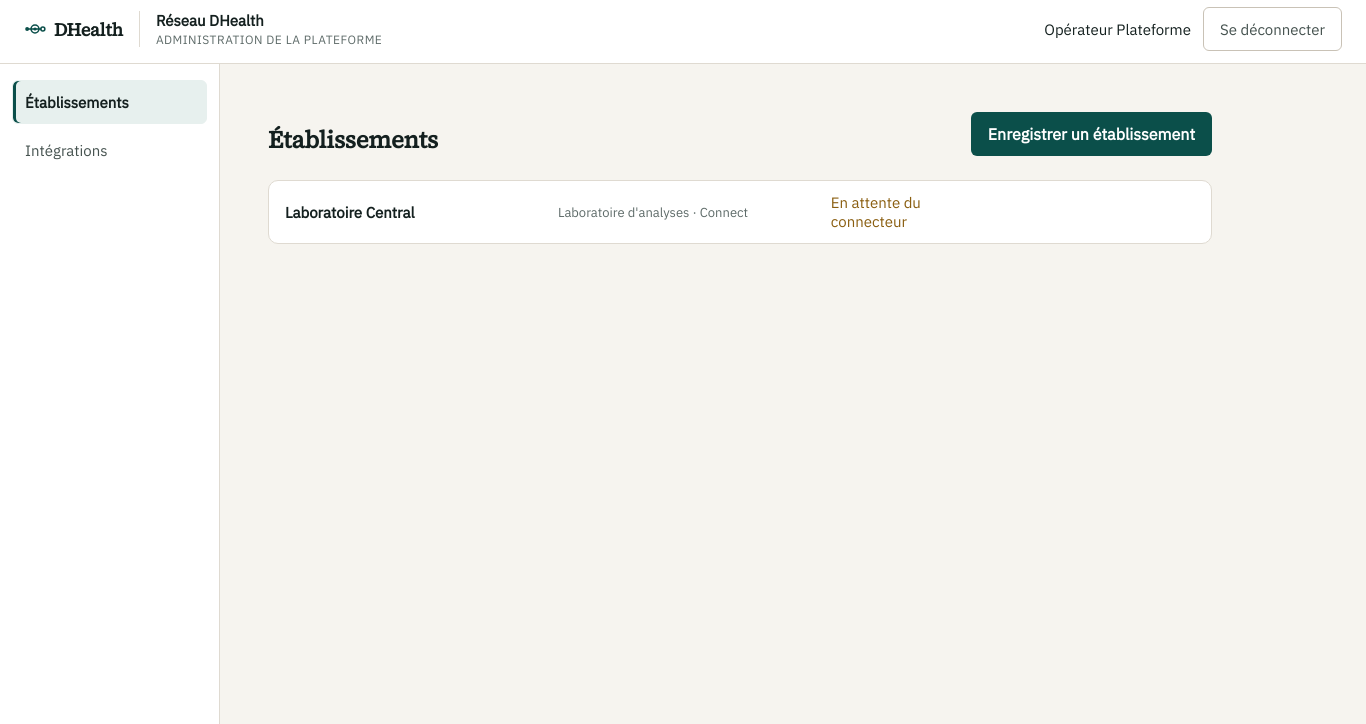
Test: the connect facility, told truthfully › PS6: a reported interface is never shown as verified or connected
Click the button "Laboratoire Central".
click(740, 212)  # box [268, 180, 1212, 244]
(page scrolled)
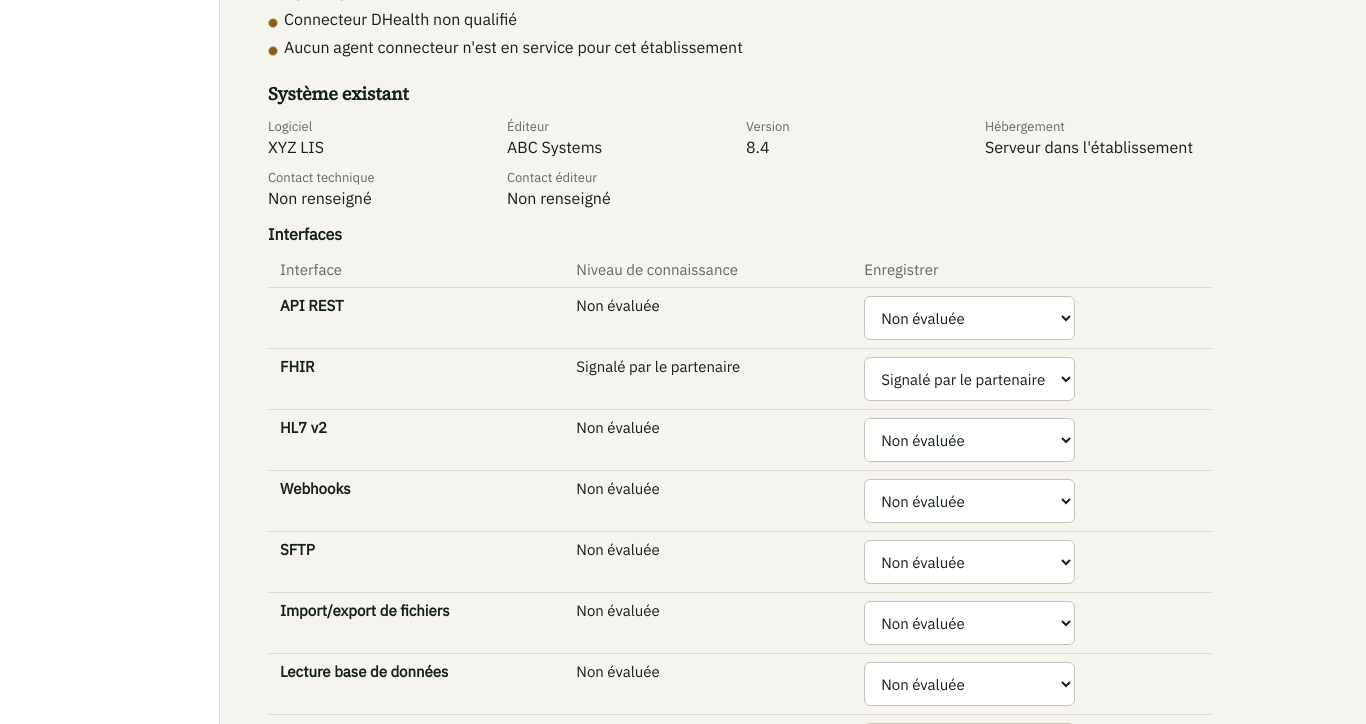
Expected: the cell "Signalé par le partenaire" does not show "vérifiée", [564, 348, 852, 410]
Now the cell "Signalé par le partenaire" is shown, box [564, 348, 852, 410]
